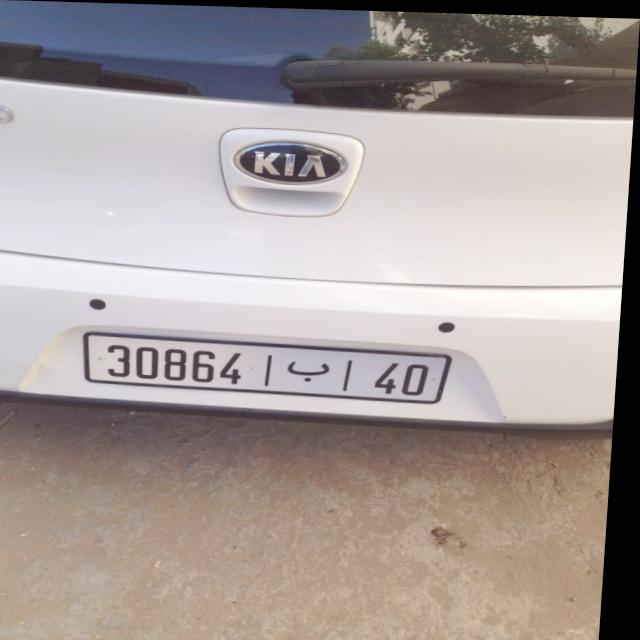License-Plate: (89, 331, 455, 400)
